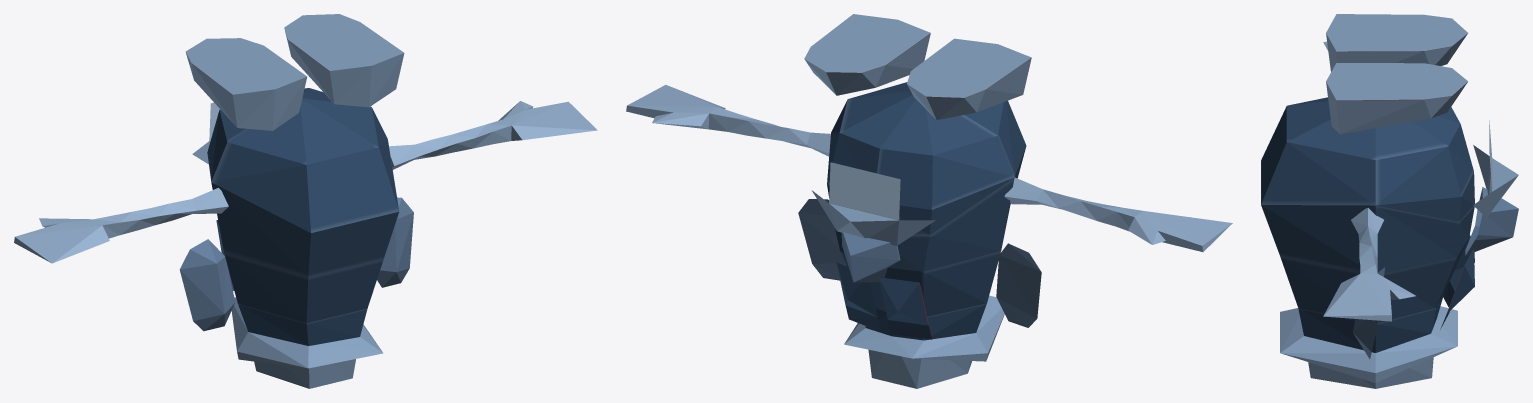
The model's file is MRPOT.obj.
3 views of the same model, side by side, from view 1: azimuth 30°, elevation 25°; view 2: azimuth 150°, elevation 25°; view 3: azimuth 270°, elevation 25° (orthographic). The views are drawn at different scales.
Visible parts, largest first — view 1: MRPOT_node00_face03, MRPOT_node10_face01, MRPOT_node04_face01, MRPOT_node00_face00, MRPOT_node00_face04, MRPOT_node08_face01, MRPOT_node16_face01, MRPOT_node15_face01, MRPOT_node02_face01, MRPOT_node07_face00, MRPOT_node10_face00, MRPOT_node01_face00 (+1 smaller); view 2: MRPOT_node00_face03, MRPOT_node10_face01, MRPOT_node04_face01, MRPOT_node05_face02, MRPOT_node08_face01, MRPOT_node16_face01, MRPOT_node15_face01, MRPOT_node00_face00, MRPOT_node00_face04, MRPOT_node02_face01, MRPOT_node09_face00, MRPOT_node00_face01 (+10 smaller); view 3: MRPOT_node00_face03, MRPOT_node04_face01, MRPOT_node10_face01, MRPOT_node00_face00, MRPOT_node00_face04, MRPOT_node15_face01, MRPOT_node00_face01, MRPOT_node05_face00, MRPOT_node06_face01, MRPOT_node06_face00, MRPOT_node04_face00, MRPOT_node10_face00 (+6 smaller).
Part boxes in pixels (x1=…): MRPOT_node00_face03: x1=207, y1=88, x2=399, y2=388; MRPOT_node10_face01: x1=186, y1=38, x2=307, y2=130; MRPOT_node04_face01: x1=284, y1=14, x2=404, y2=107; MRPOT_node00_face00: x1=227, y1=98, x2=378, y2=164; MRPOT_node00_face04: x1=231, y1=299, x2=383, y2=368; MRPOT_node08_face01: x1=179, y1=239, x2=235, y2=331; MRPOT_node16_face01: x1=15, y1=218, x2=109, y2=263; MRPOT_node15_face01: x1=498, y1=101, x2=597, y2=140; MRPOT_node02_face01: x1=380, y1=197, x2=413, y2=287; MRPOT_node07_face00: x1=192, y1=188, x2=228, y2=213; MRPOT_node10_face00: x1=186, y1=38, x2=305, y2=94; MRPOT_node01_face00: x1=389, y1=144, x2=418, y2=169; MRPOT_node00_face03: x1=827, y1=91, x2=1026, y2=388; MRPOT_node10_face01: x1=907, y1=38, x2=1031, y2=119; MRPOT_node04_face01: x1=804, y1=14, x2=930, y2=95; MRPOT_node05_face02: x1=829, y1=162, x2=900, y2=220; MRPOT_node08_face01: x1=996, y1=243, x2=1041, y2=327; MRPOT_node16_face01: x1=1128, y1=211, x2=1232, y2=251; MRPOT_node15_face01: x1=626, y1=85, x2=724, y2=129; MRPOT_node00_face00: x1=849, y1=82, x2=1013, y2=388; MRPOT_node00_face04: x1=844, y1=295, x2=1004, y2=358; MRPOT_node02_face01: x1=798, y1=199, x2=845, y2=280; MRPOT_node09_face00: x1=879, y1=277, x2=928, y2=325; MRPOT_node00_face01: x1=844, y1=314, x2=1004, y2=361; MRPOT_node00_face03: x1=1261, y1=106, x2=1474, y2=388; MRPOT_node04_face01: x1=1326, y1=63, x2=1467, y2=134; MRPOT_node10_face01: x1=1326, y1=14, x2=1467, y2=71; MRPOT_node00_face00: x1=1286, y1=97, x2=1461, y2=221; MRPOT_node00_face04: x1=1280, y1=308, x2=1457, y2=372; MRPOT_node15_face01: x1=1323, y1=273, x2=1415, y2=316; MRPOT_node00_face01: x1=1282, y1=306, x2=1457, y2=382; MRPOT_node05_face00: x1=1473, y1=145, x2=1518, y2=217; MRPOT_node06_face01: x1=1478, y1=187, x2=1518, y2=237; MRPOT_node06_face00: x1=1465, y1=187, x2=1518, y2=255; MRPOT_node04_face00: x1=1326, y1=63, x2=1467, y2=117; MRPOT_node10_face00: x1=1326, y1=15, x2=1467, y2=64.
Bounding box in the file's own units: 692 × 380 × 270.
